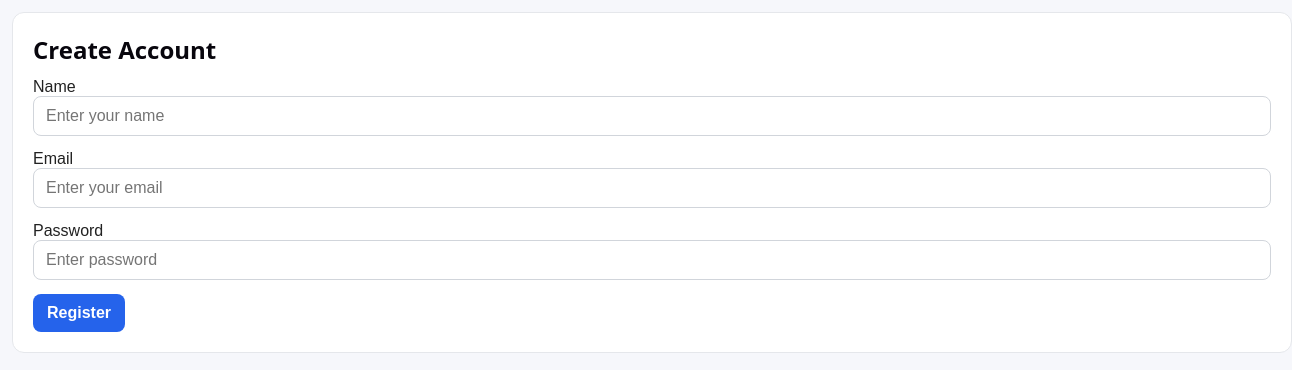
Scenario: RegisterPage › registers successfully and shows email verification instructions
Type "Prem" into the field labelled "Name".
click(652, 116); type("Prem")  # box [33,96,1271,136]
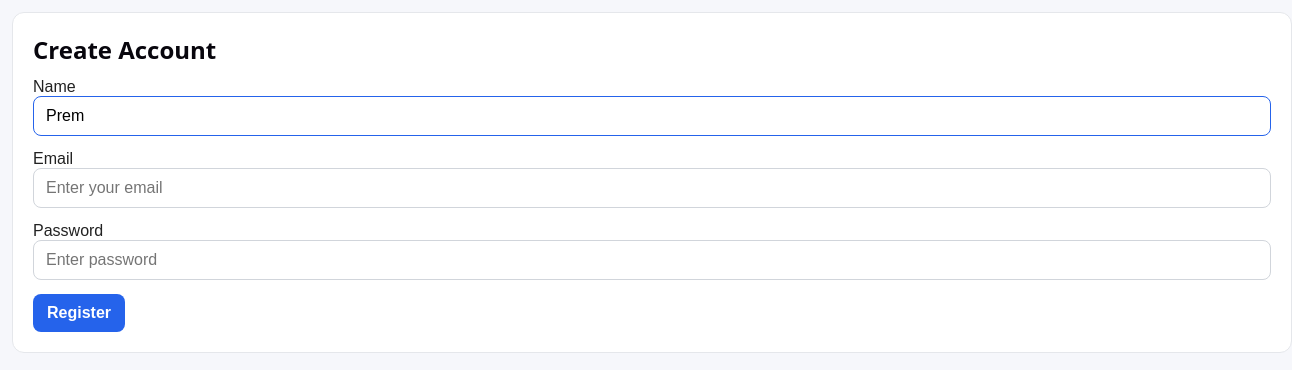
Type "prem@example.com" into the field labelled "Email".
click(652, 188); type("prem@example.com")  # box [33,168,1271,208]
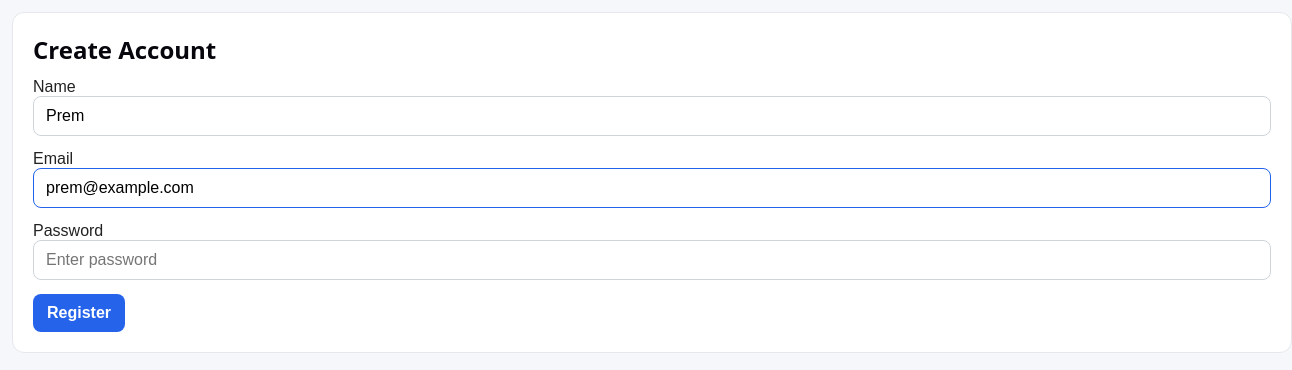
Type "password123" into the password field labelled "Password".
click(652, 260); type("password123")  # box [33,240,1271,280]
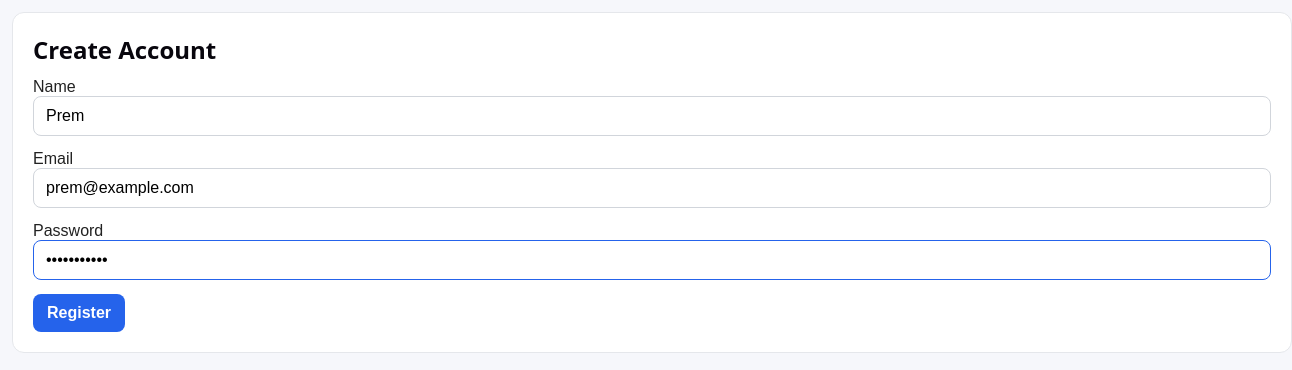
Click the button "Register".
click(79, 313)  # box [33,294,125,332]
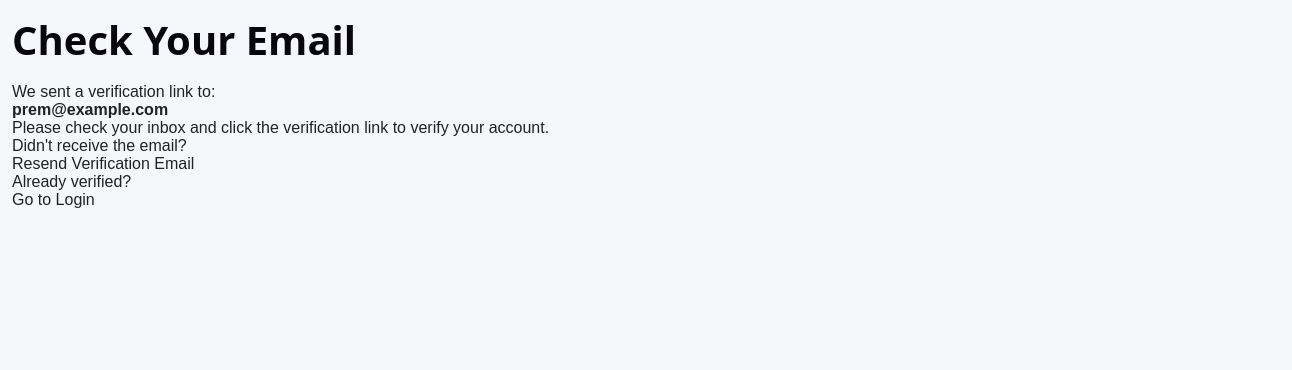
Check: the heading "Check Your Email" is shown, box [12,12,356,67]
Check: the text "prem@example.com" is shown, box [12,101,168,118]
